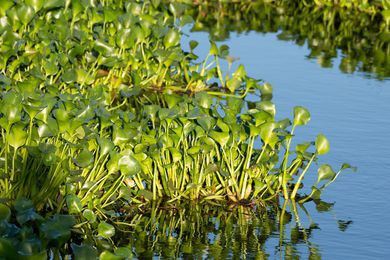water_hyacinth: (0, 59, 360, 226)
